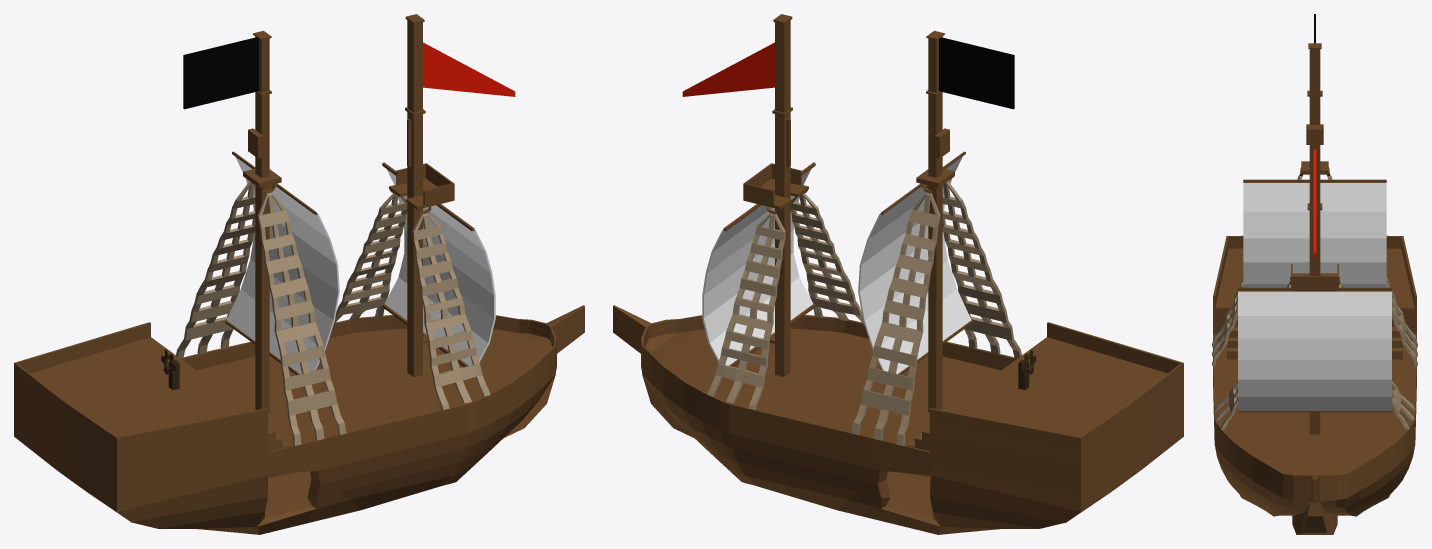
Rendered from ship.fbx.
3 renders of one model, left to right at view 1: azimuth 30°, elevation 25°; view 2: azimuth 150°, elevation 25°; view 3: azimuth 270°, elevation 25°, orthographic. The views are drawn at different scales.
Parts seen in each view (by area): view 1: Plane; view 2: Plane; view 3: Plane.
Part boxes in pixels (left/top/right/bottom): Plane: left=14, top=14, right=584, bottom=534; Plane: left=613, top=14, right=1183, bottom=534; Plane: left=1212, top=14, right=1417, bottom=534.
Bounding box in the file's own units: 356 × 297 × 142.
